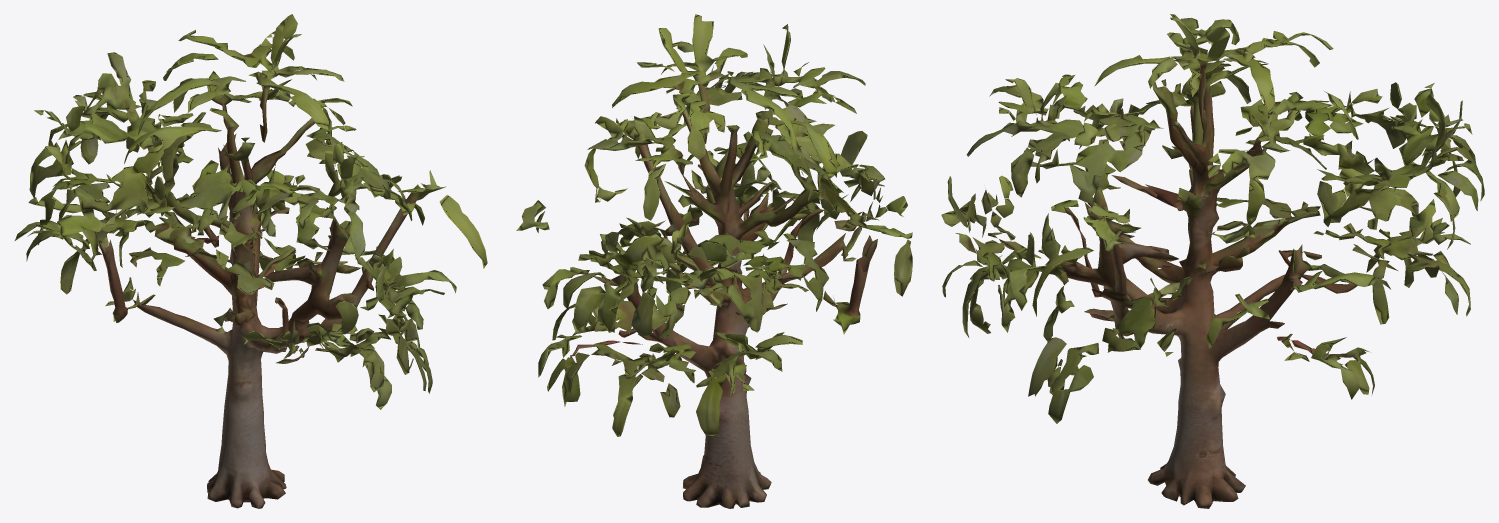
Rendered from almond.glb.
3 views of the same model, side by side, from view 1: azimuth 30°, elevation 25°; view 2: azimuth 150°, elevation 25°; view 3: azimuth 270°, elevation 25° (orthographic). The views are drawn at different scales.
Parts seen in each view (by area): view 1: tripo_node_8dabaad9-a76d-4ce2-ada3-77c4d18924a4; view 2: tripo_node_8dabaad9-a76d-4ce2-ada3-77c4d18924a4; view 3: tripo_node_8dabaad9-a76d-4ce2-ada3-77c4d18924a4.
Boxes of the visible parts, bbox=[...] form: tripo_node_8dabaad9-a76d-4ce2-ada3-77c4d18924a4: bbox=[14, 14, 487, 508]; tripo_node_8dabaad9-a76d-4ce2-ada3-77c4d18924a4: bbox=[516, 14, 912, 508]; tripo_node_8dabaad9-a76d-4ce2-ada3-77c4d18924a4: bbox=[941, 14, 1484, 508].
Bounding box in the file's own units: 7.89 × 9 × 9.
Materials: 1 (1 with a texture image).
